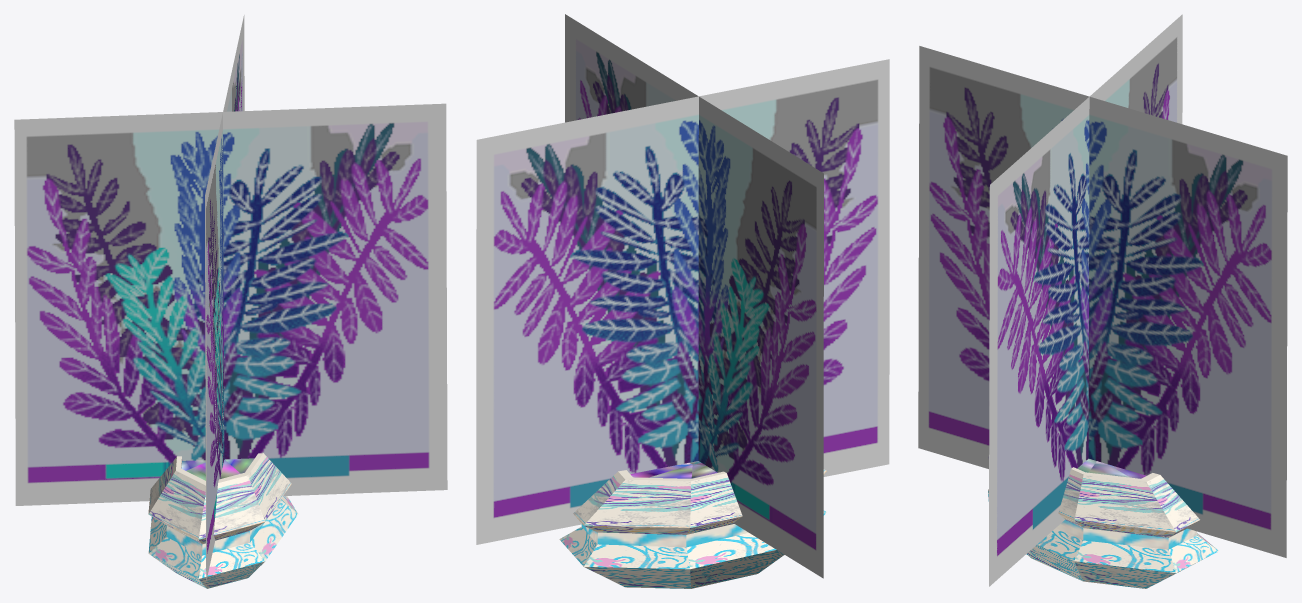
Rendered from Pot_Retro_04.glb.
The picture shows the model from 3 angles, left to right: view 1: azimuth 30°, elevation 25°; view 2: azimuth 150°, elevation 25°; view 3: azimuth 270°, elevation 25°; orthographic projection. The views are drawn at different scales.
Visible parts, largest first — view 1: Pot_Retro_04; view 2: Pot_Retro_04; view 3: Pot_Retro_04.
Part boxes in pixels (x1,y1,x2,y2): Pot_Retro_04: (14,15,447,588); Pot_Retro_04: (476,14,889,588); Pot_Retro_04: (918,14,1287,588).
Bounding box in the file's own units: 1.68 × 2.11 × 1.52.
Materials: 4 (4 with a texture image).
